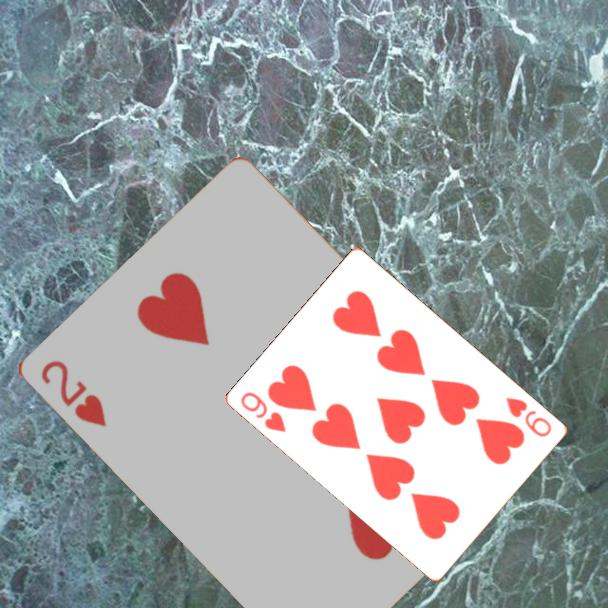h02: (36, 357, 109, 430)
h09: (502, 393, 555, 440), (237, 388, 290, 435)
